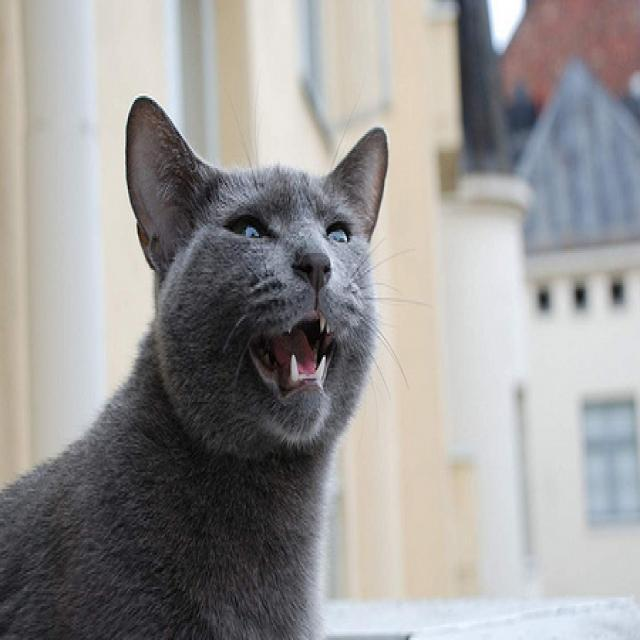Russian Blue: (0, 91, 393, 640)
